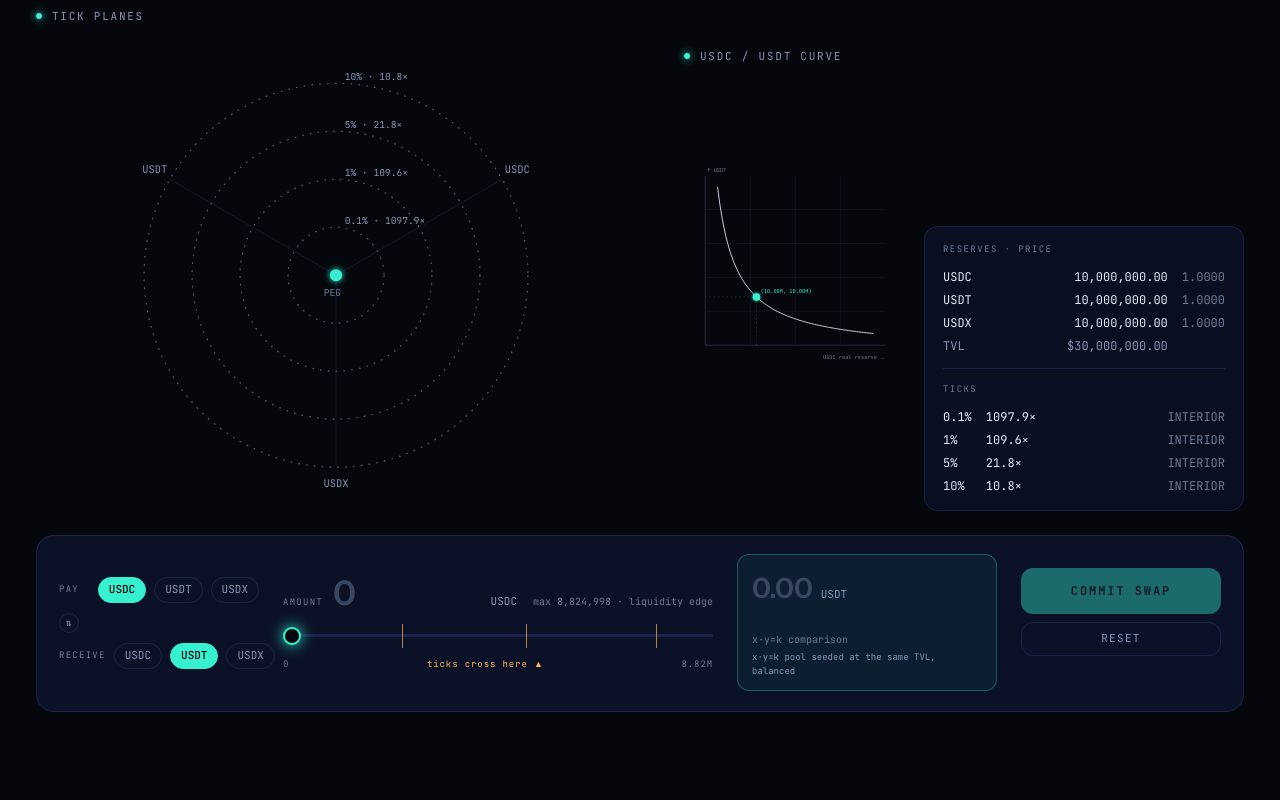
Test case: PoolView › ignores a quote that resolves after a newer one
Expected: the text "$30,000,000.00" is shown, [1067,338,1168,354]
Type "1000" into the field named "amount in". click: (407, 594)
box: [333,574,481,614]
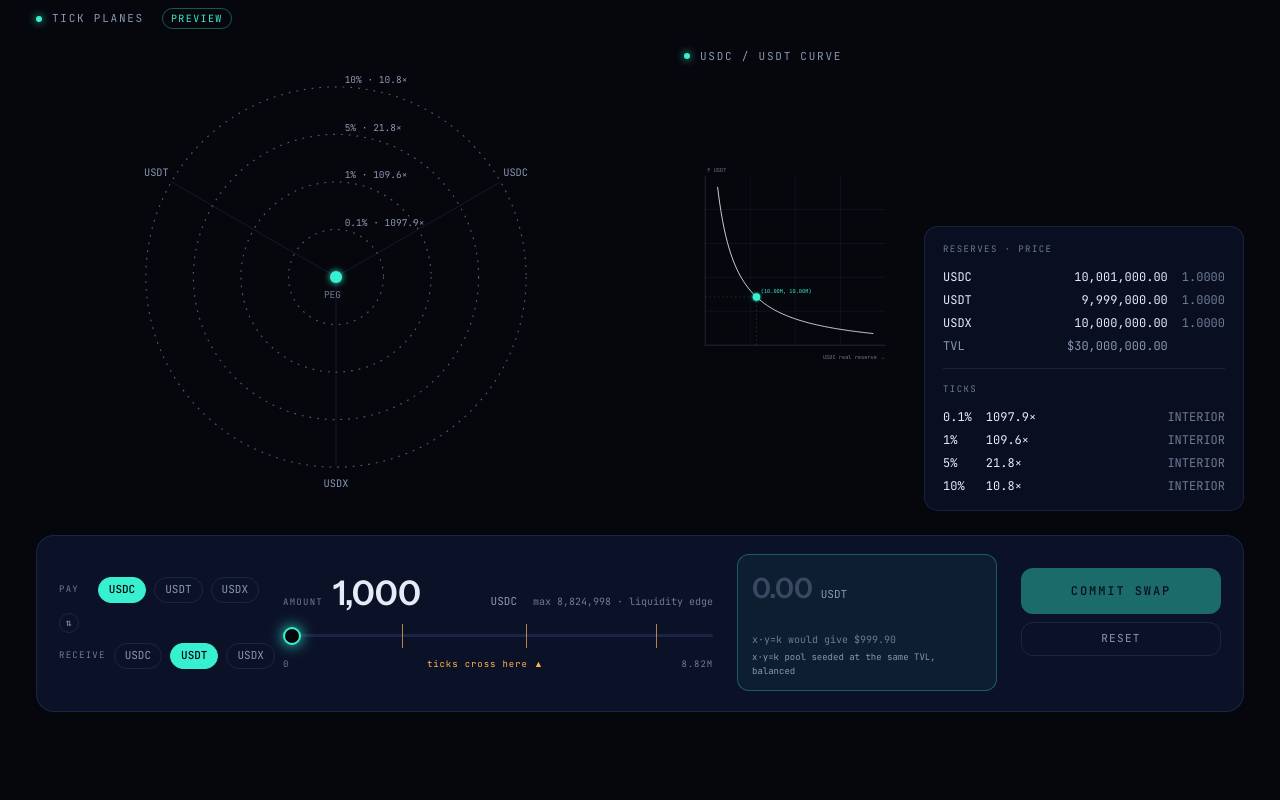
Replace the text in the field named "amount in" with "2000". click: (407, 594)
box: [333,574,481,614]
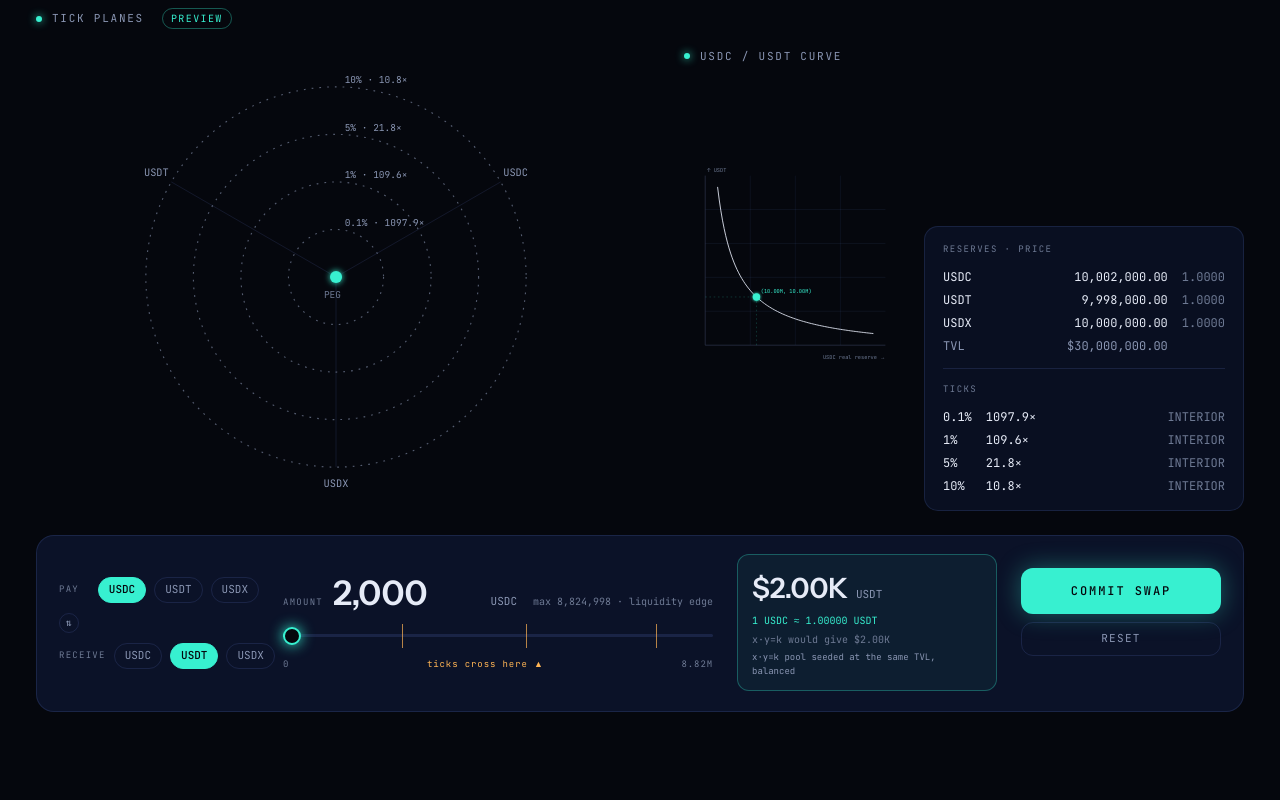
Expected: the button "COMMIT SWAP" is enabled, [1021,568,1221,614]
